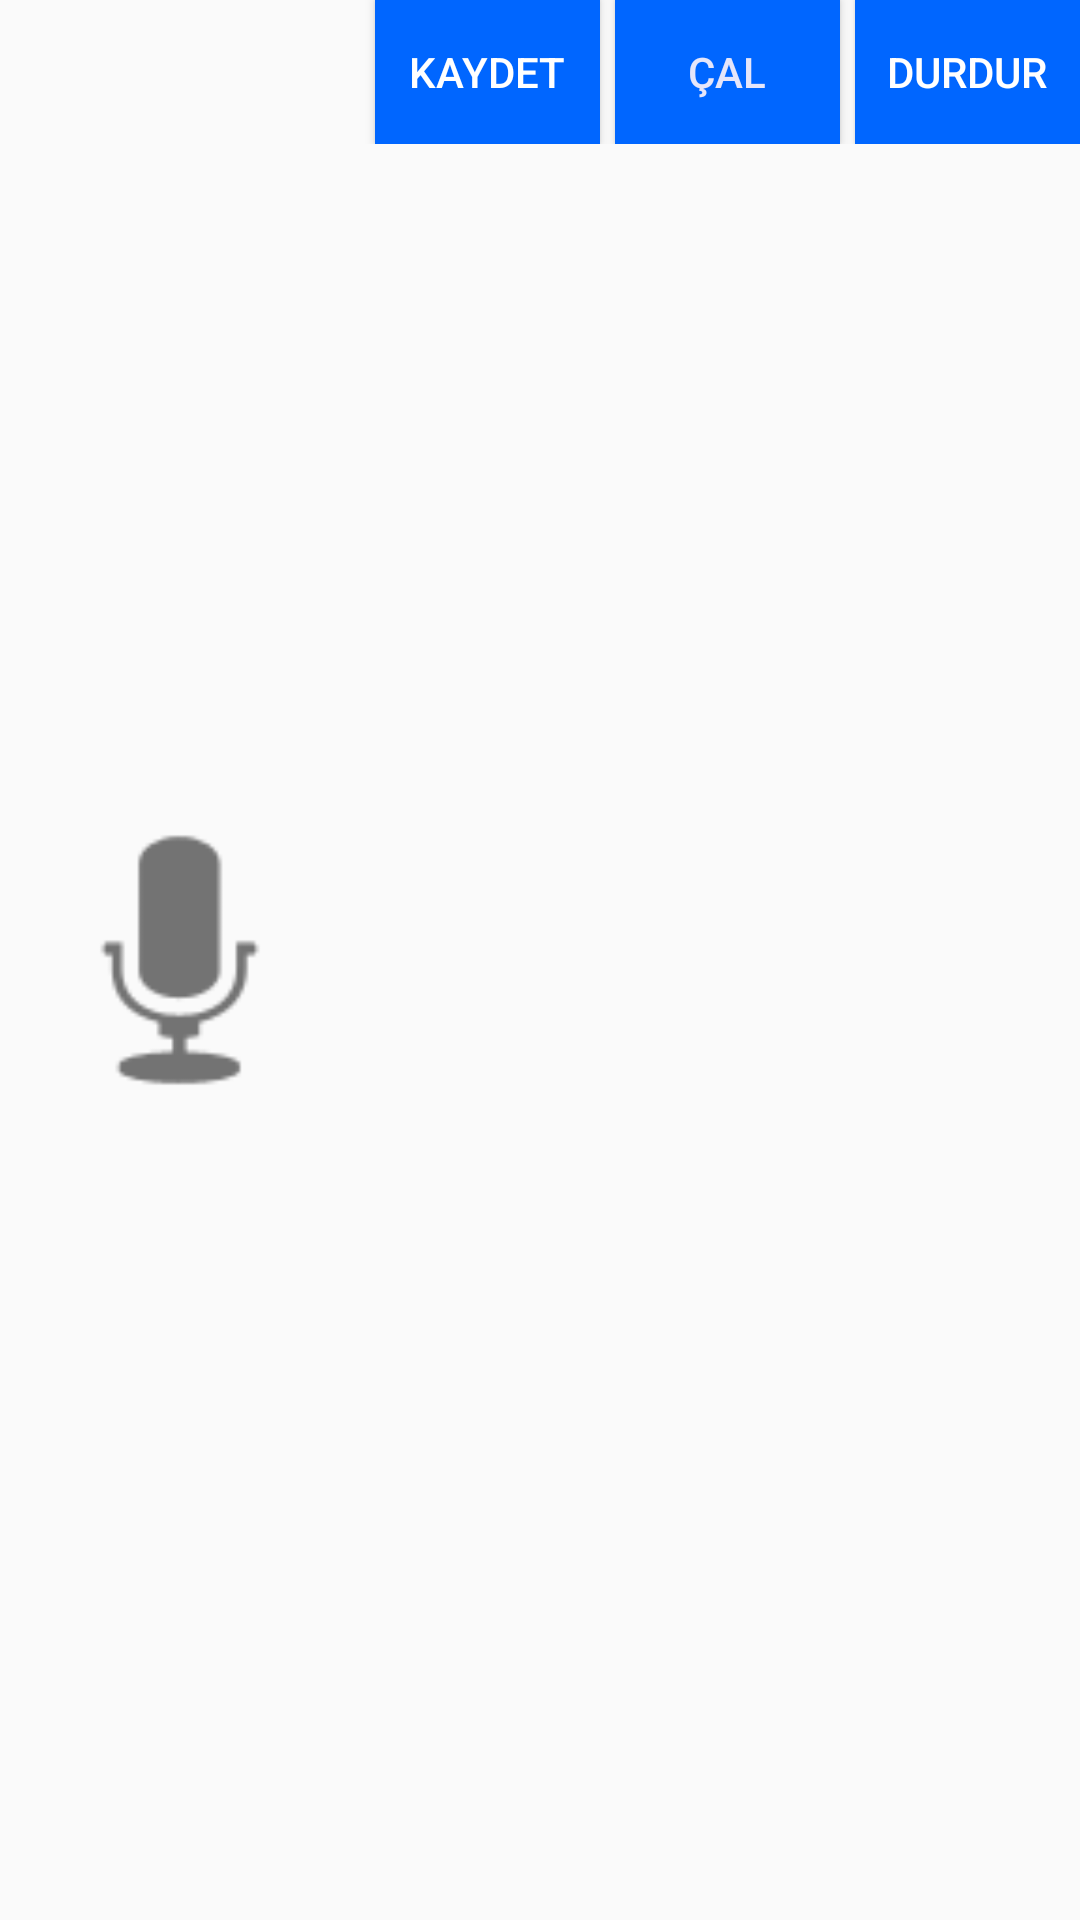

Where icons sit on this 1080 x 1920 app screen, as (x1, y1, x2, y2):
speak now: (101, 835, 259, 1085)
